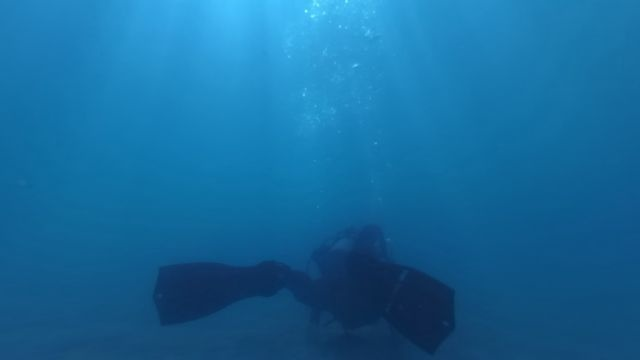Diver: (146, 211, 469, 358)
